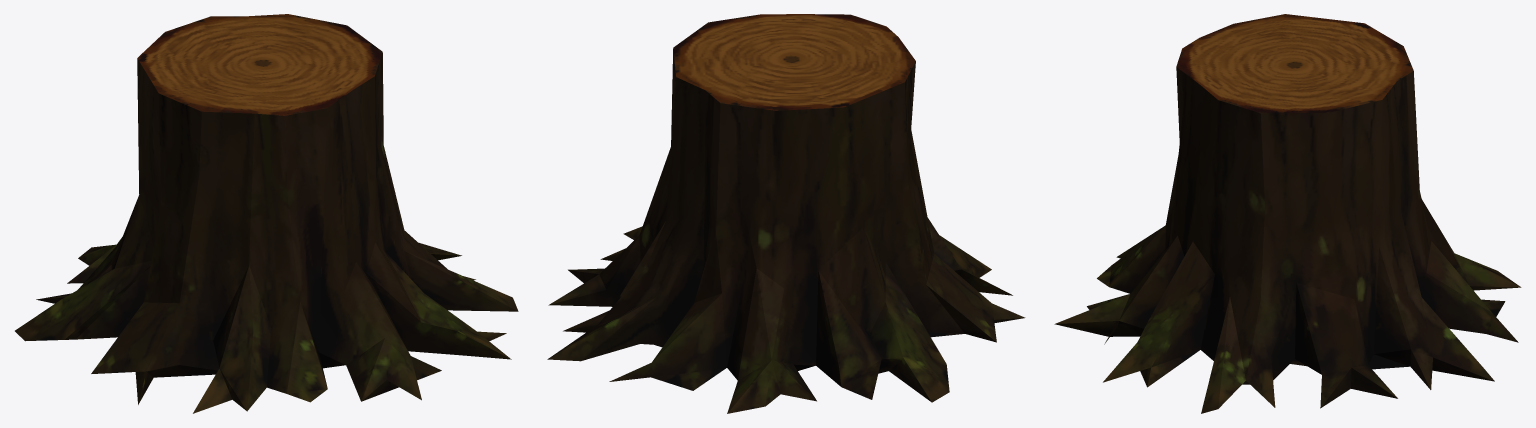
Rendered from stump_lod0.glb.
The picture shows the model from 3 angles, left to right: view 1: azimuth 30°, elevation 25°; view 2: azimuth 150°, elevation 25°; view 3: azimuth 270°, elevation 25°; orthographic projection. The views are drawn at different scales.
Parts seen in each view (by area): view 1: low; view 2: low; view 3: low.
Part boxes in pixels (x1=…): low: x1=15, y1=14, x2=518, y2=413; low: x1=547, y1=14, x2=1025, y2=413; low: x1=1054, y1=14, x2=1521, y2=413.
Bounding box in the file's own units: 1.19 × 0.7321 × 1.22.
Materials: 1 (1 with a texture image).
